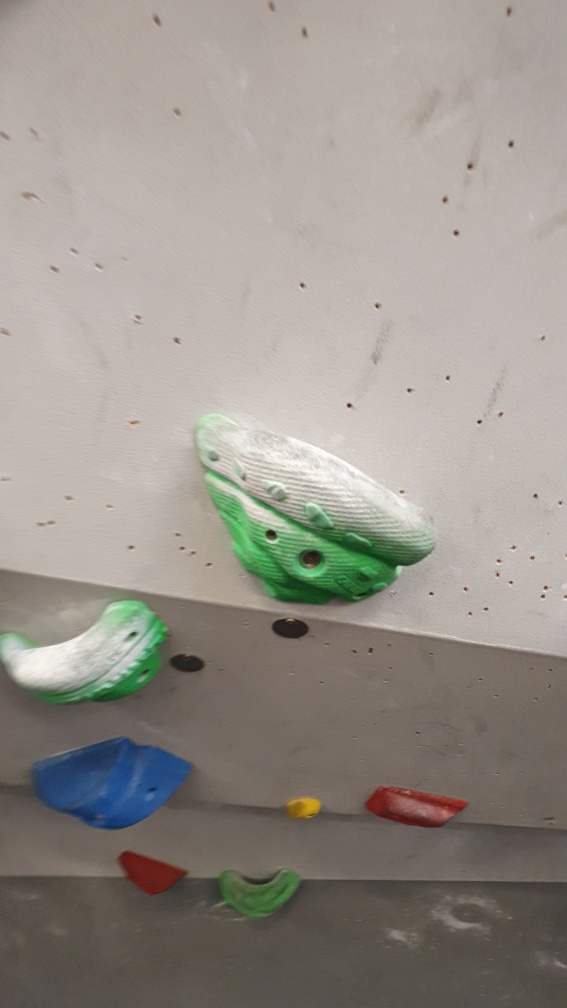Crimp: (363, 785, 472, 836)
Hand Start: (267, 613, 319, 652), (165, 644, 210, 678)
Jug: (186, 406, 438, 615), (1, 587, 173, 709), (215, 864, 310, 922)
Pinch: (25, 727, 199, 834)
